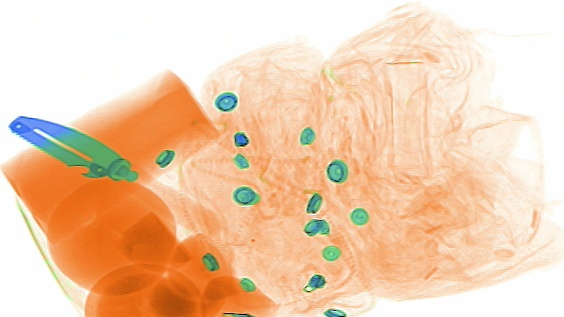knife: (7, 112, 222, 241)
